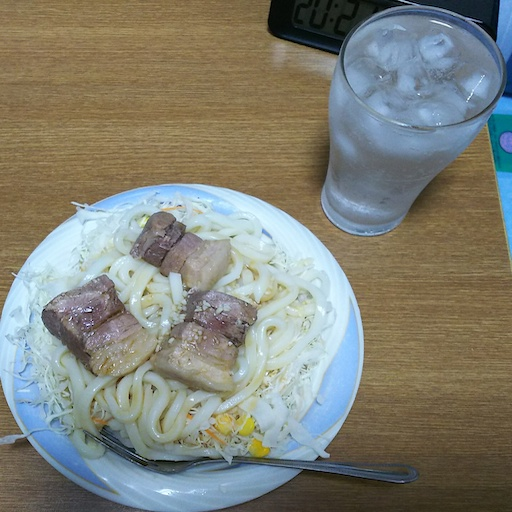drink: (320, 3, 508, 241)
other: (22, 195, 335, 466)
